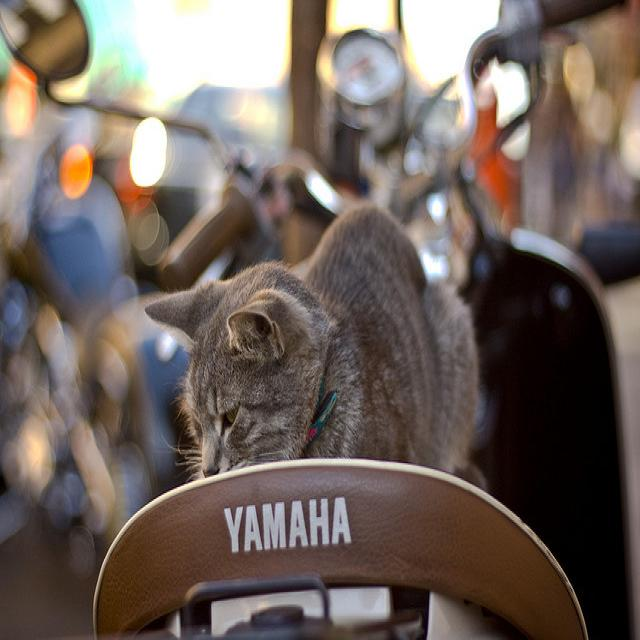motor: (81, 125, 638, 631)
